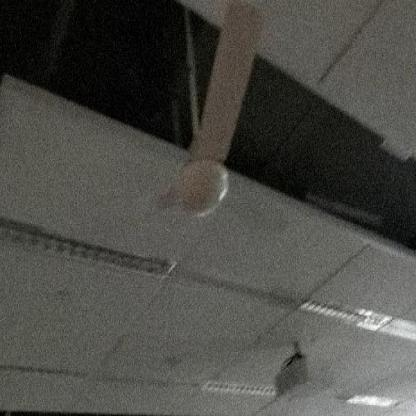light_off: (0, 190, 183, 296), (269, 263, 398, 342), (197, 362, 280, 415), (347, 382, 407, 414)
